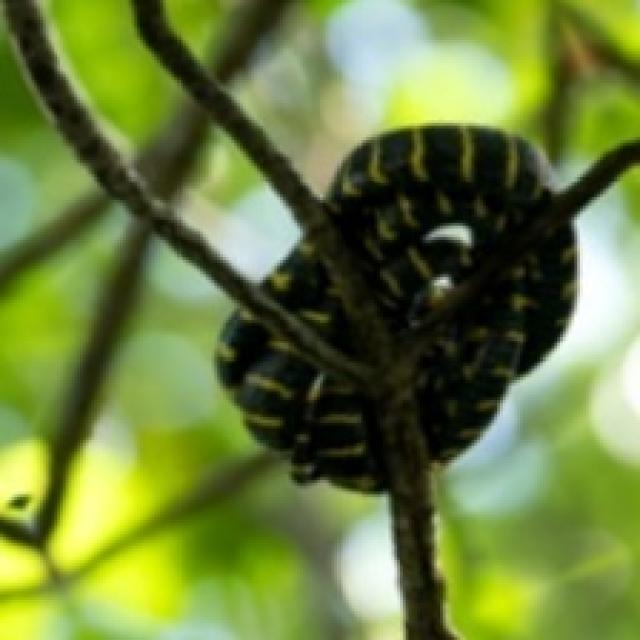mangrove cat snake: (326, 126, 551, 337), (414, 220, 574, 460), (214, 309, 386, 489), (263, 234, 357, 354)
